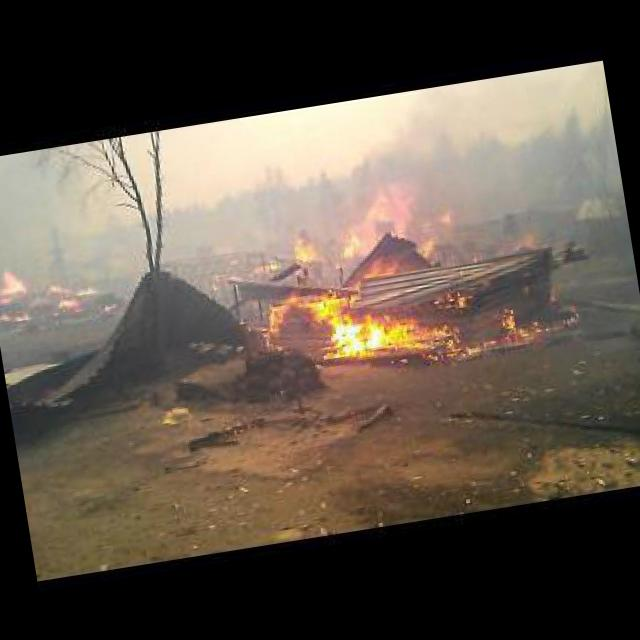fire: (245, 159, 545, 378)
